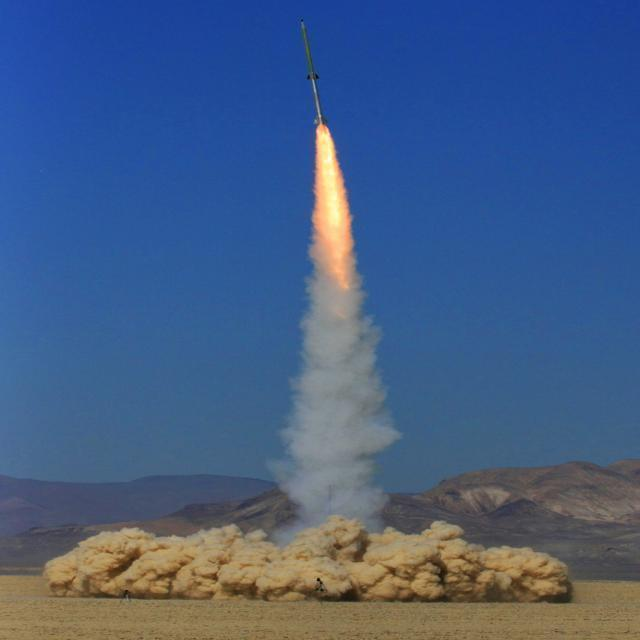missile: (294, 13, 342, 131)
